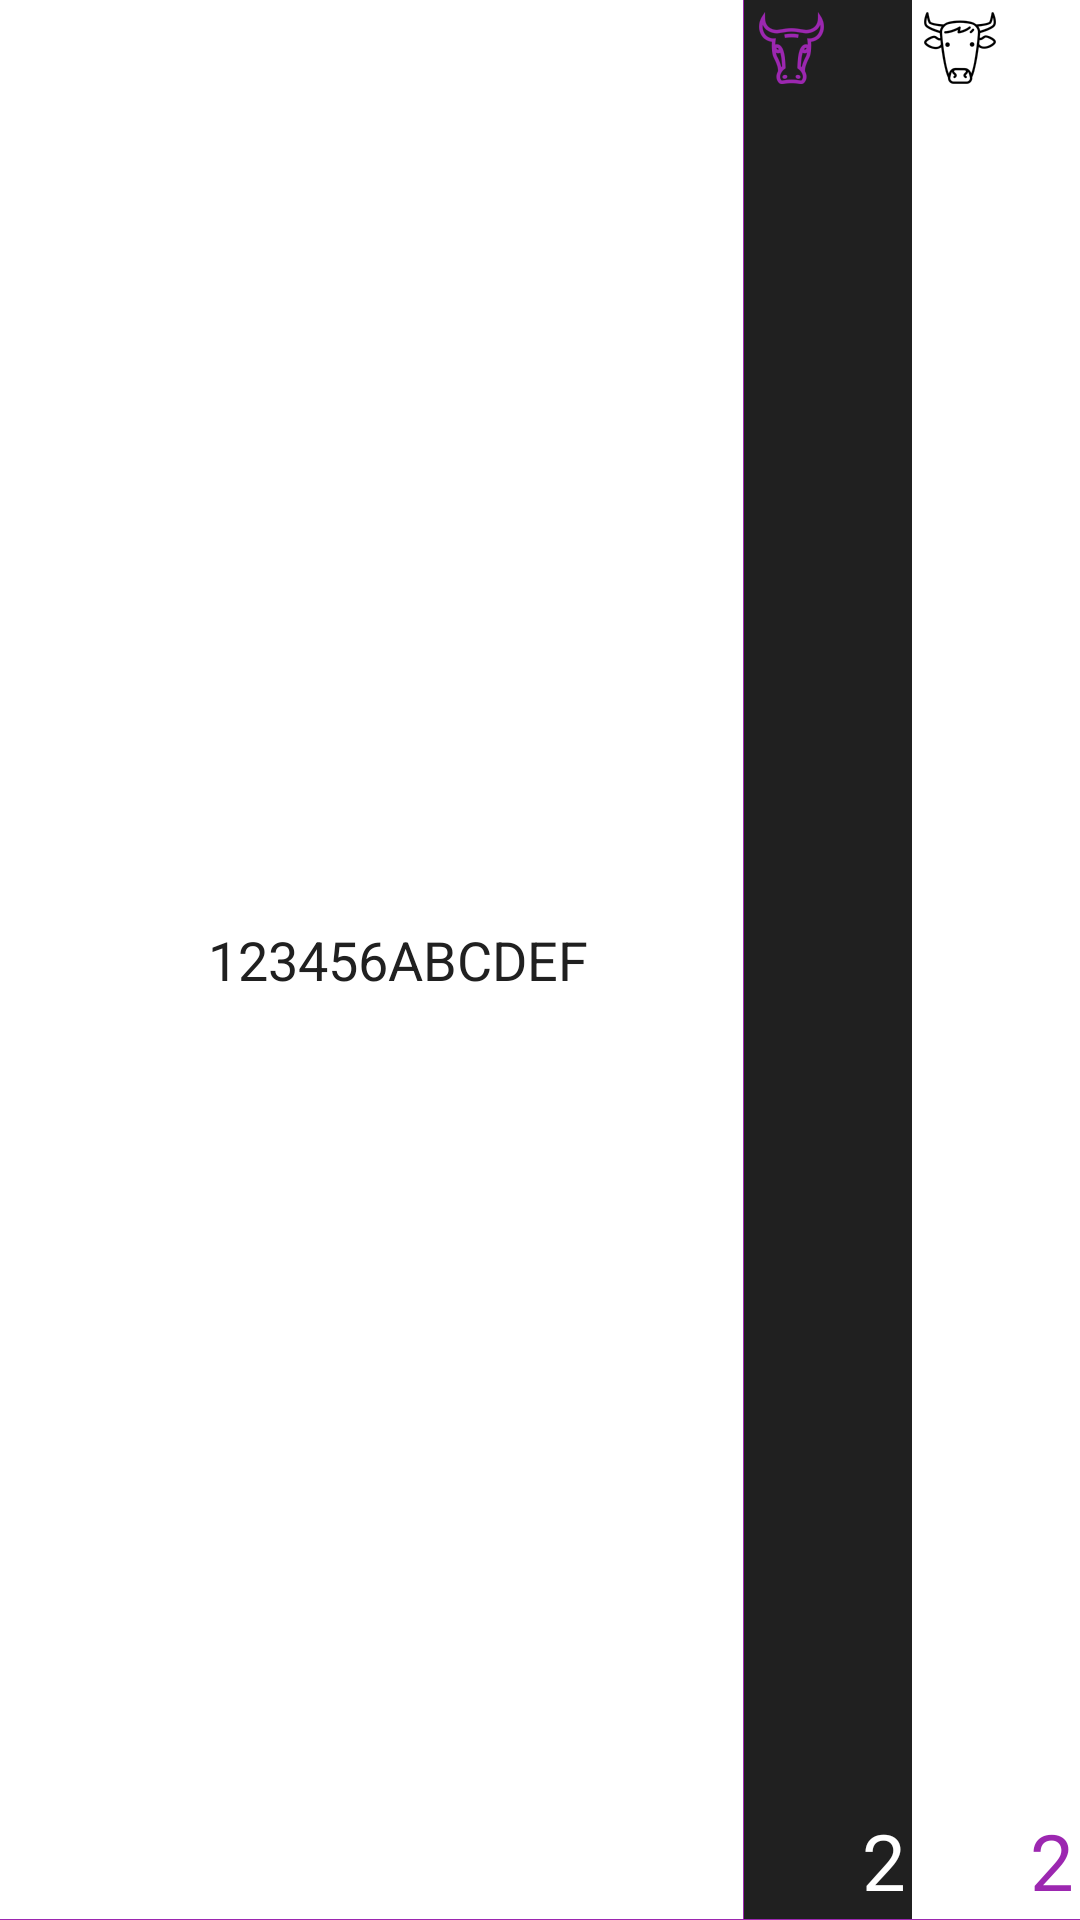

Screen size 1080 × 1920. Icon name, then its box in pixels as box=[x1, y1, x2, y2]:
bull: box=[759, 12, 824, 84]
cow: box=[924, 12, 996, 84]
